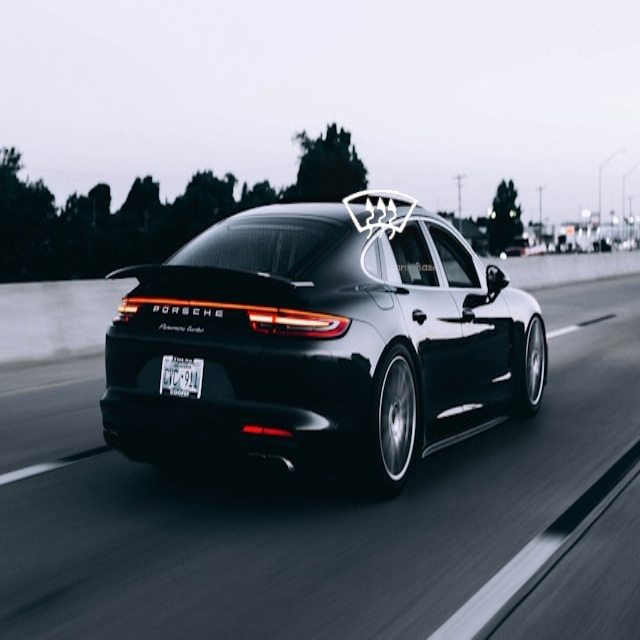symbol: (320, 154, 443, 277)
